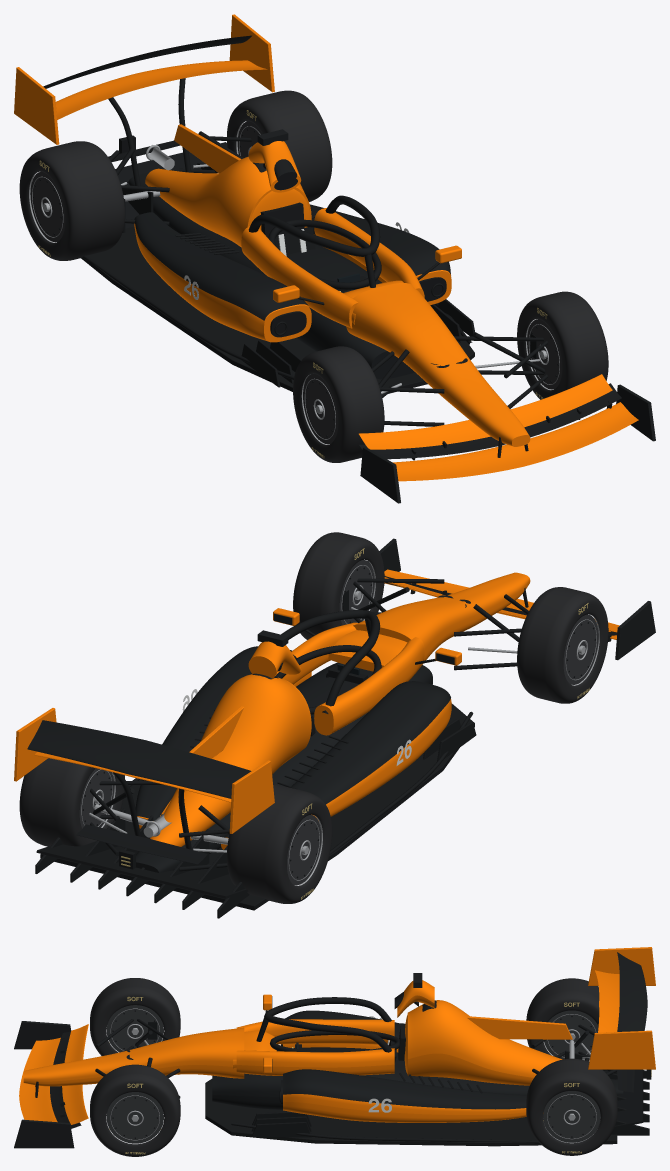
The model's file is reference-26-standard.glb.
3 renders of one model, top to bottom at view 1: azimuth 30°, elevation 25°; view 2: azimuth 150°, elevation 25°; view 3: azimuth 270°, elevation 25°, orthographic. The views are drawn at different scales.
Parts seen in each view (by area): view 1: Nose_body, Floor_carbon, RearLeftWheel_tire, Bodywork_body, Sidepods_secondary, RearWing_body, FrontLeftWheel_tire, Cockpit_body, Bodywork_secondary, FrontWing_body, FrontRightWheel_tire, RearRightWheel_tire (+18 smaller); view 2: Sidepods_secondary, Bodywork_body, RearFlap_secondary, RearLeftWheel_tire, FrontLeftWheel_tire, Floor_carbon, Cockpit_body, Diffuser_carbon, Nose_body, RearRightWheel_tire, FrontRightWheel_tire, Bodywork_secondary (+15 smaller); view 3: Bodywork_body, Floor_carbon, Nose_body, Sidepods_secondary, Cockpit_body, RearWing_body, RearRightWheel_tire, Sidepods_body, FrontRightWheel_tire, Bodywork_secondary, FrontLeftWheel_tire, FrontWing_secondary (+18 smaller).
Boxes of the visible parts, x1,y1,x2,y2 form: Nose_body: [346, 283, 530, 446]; Floor_carbon: [81, 226, 474, 393]; RearLeftWheel_tire: [19, 141, 124, 260]; Bodywork_body: [145, 124, 311, 247]; Sidepods_secondary: [134, 204, 450, 320]; RearWing_body: [14, 14, 274, 144]; FrontLeftWheel_tire: [293, 346, 384, 462]; Cockpit_body: [241, 208, 424, 328]; Bodywork_secondary: [128, 162, 414, 379]; FrontWing_body: [393, 402, 638, 481]; FrontRightWheel_tire: [517, 291, 608, 399]; RearRightWheel_tire: [227, 90, 332, 201]; Sidepods_secondary: [135, 646, 450, 837]; Bodywork_body: [150, 674, 311, 846]; RearFlap_secondary: [27, 720, 251, 798]; RearLeftWheel_tire: [227, 784, 332, 903]; FrontLeftWheel_tire: [517, 587, 608, 703]; Floor_carbon: [40, 703, 476, 910]; Cockpit_body: [275, 622, 424, 735]; Diffuser_carbon: [35, 808, 249, 918]; Nose_body: [353, 572, 530, 673]; RearRightWheel_tire: [19, 758, 124, 846]; FrontRightWheel_tire: [293, 532, 384, 639]; Bodywork_secondary: [136, 662, 432, 872]; Bodywork_body: [404, 1000, 572, 1085]; Floor_carbon: [205, 1079, 617, 1146]; Nose_body: [23, 1027, 244, 1086]; Sidepods_secondary: [283, 1010, 526, 1109]; Cockpit_body: [233, 1019, 394, 1075]; RearWing_body: [588, 947, 655, 1069]; RearRightWheel_tire: [526, 1058, 617, 1155]; Sidepods_body: [263, 994, 543, 1122]; FrontRightWheel_tire: [90, 1064, 180, 1156]; Bodywork_secondary: [212, 1000, 623, 1109]; FrontLeftWheel_tire: [90, 978, 180, 1055]; FrontWing_secondary: [14, 1021, 74, 1148].
Size of the model in its own units: 1.9 by 1.12 by 5.
